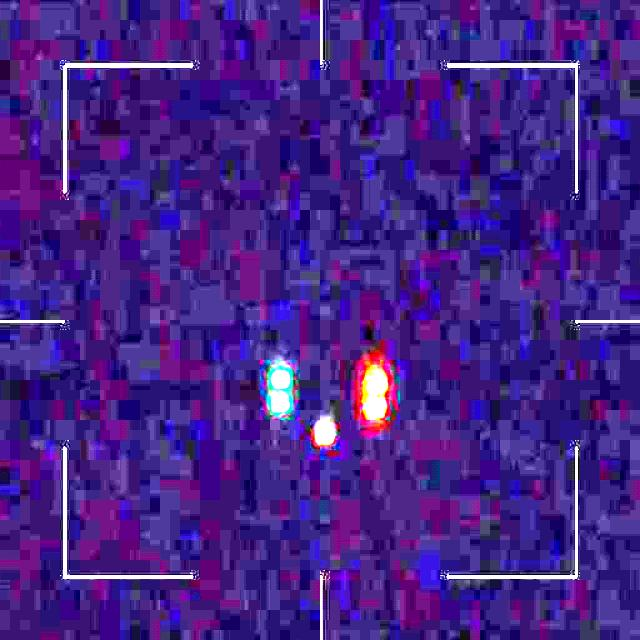bird: (270, 359, 389, 445)
